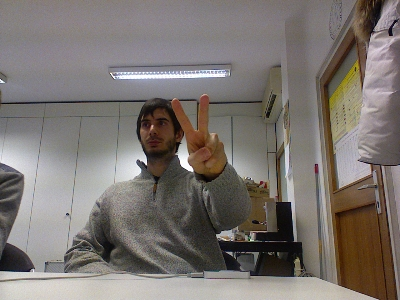剪刀: (170, 93, 227, 176)
